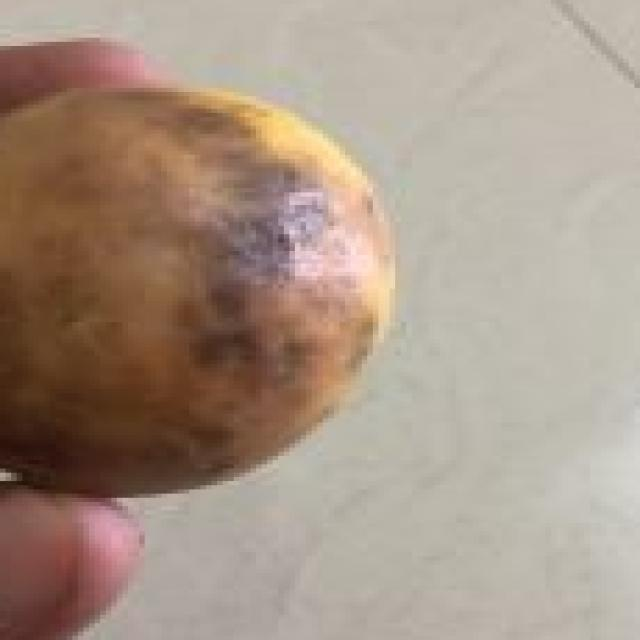Bad_Lime-0-1-day: (0, 84, 401, 502)
